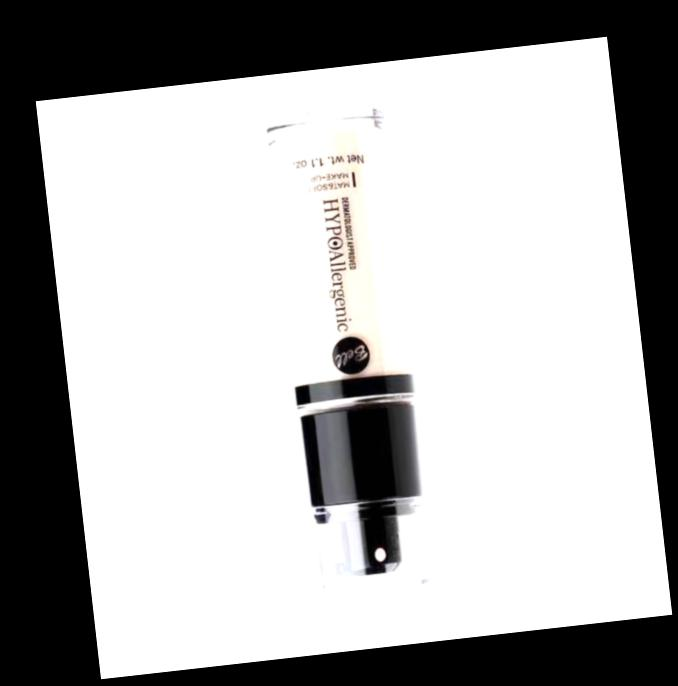cosmetic: (263, 102, 437, 598)
